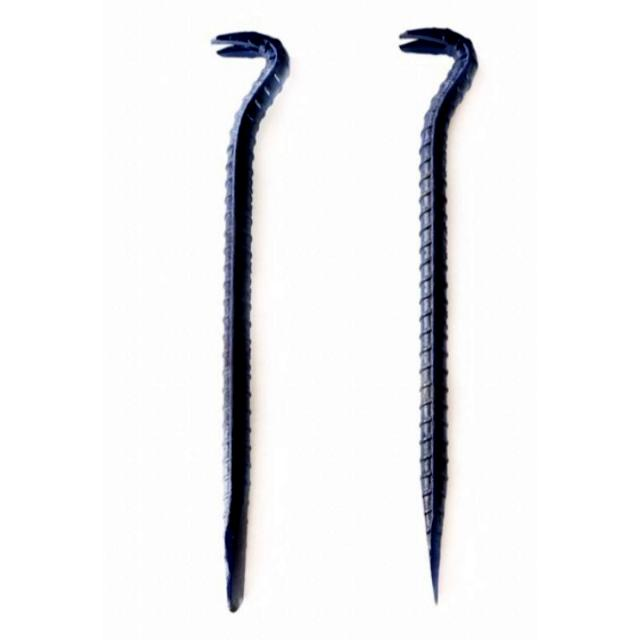crow bar: (388, 20, 496, 604), (208, 24, 289, 609)
